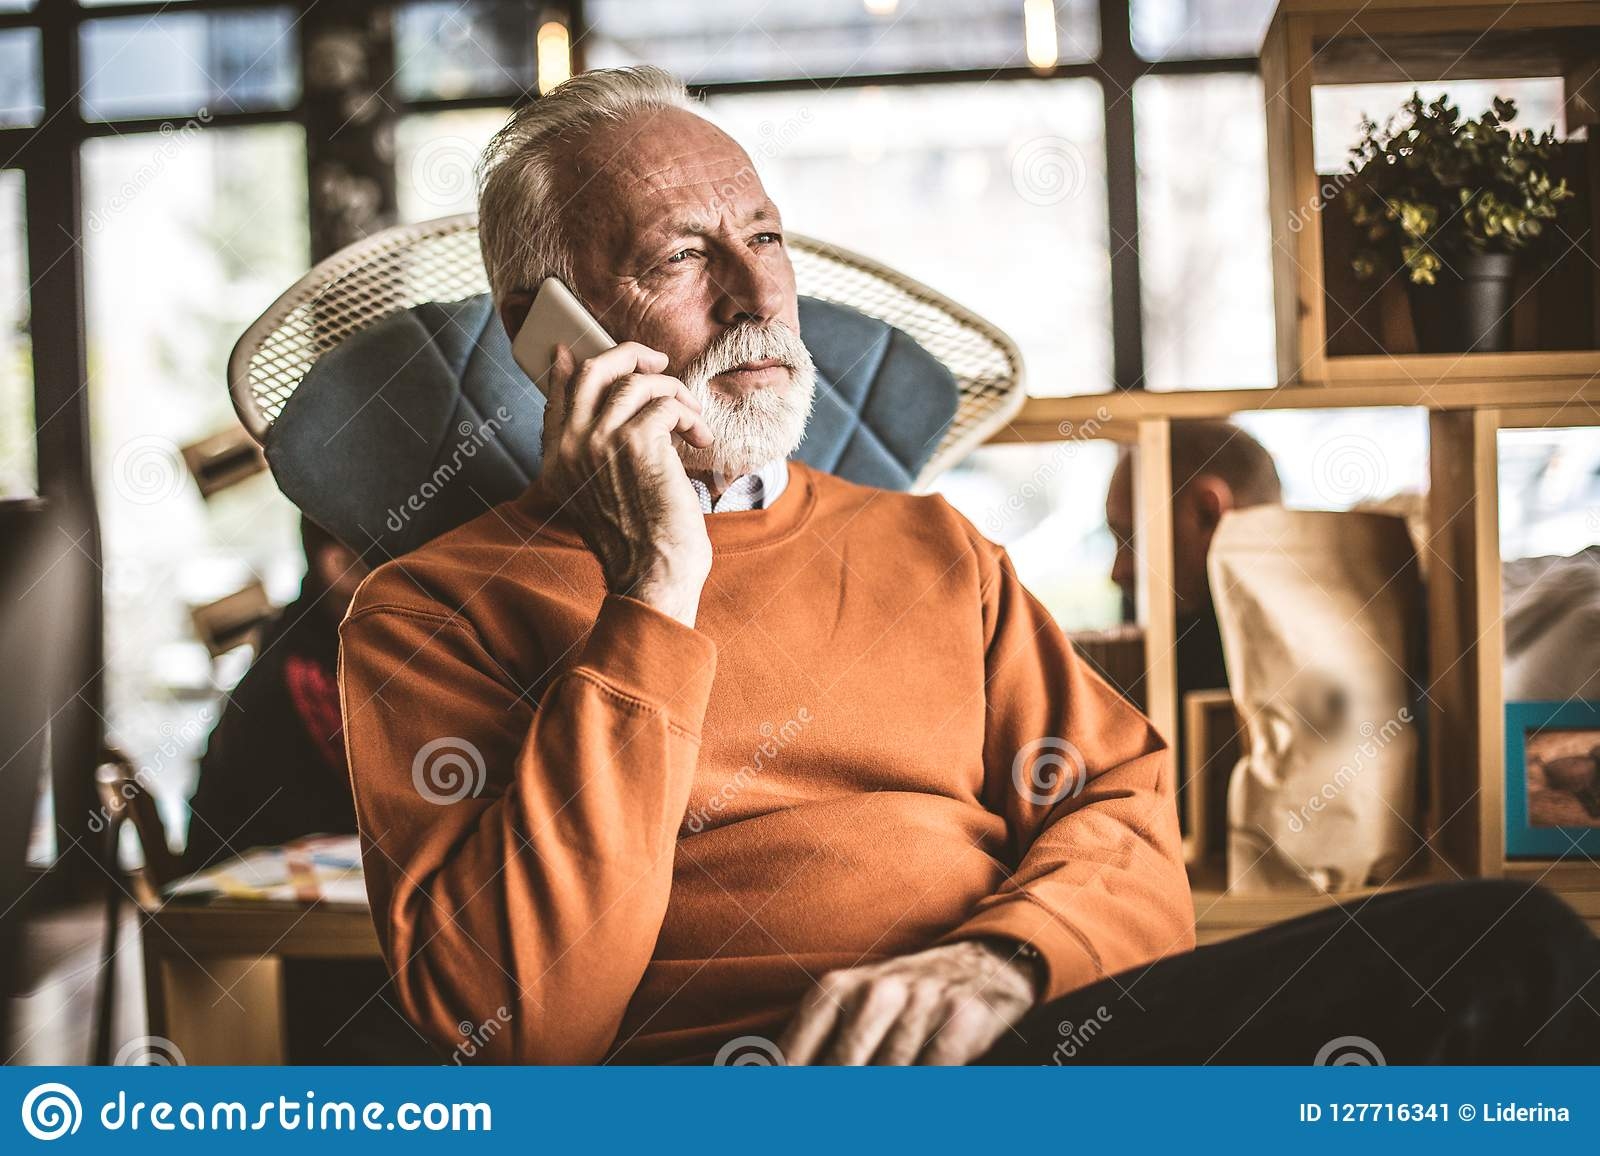phone: (514, 272, 660, 440)
talk: (503, 183, 801, 603)
